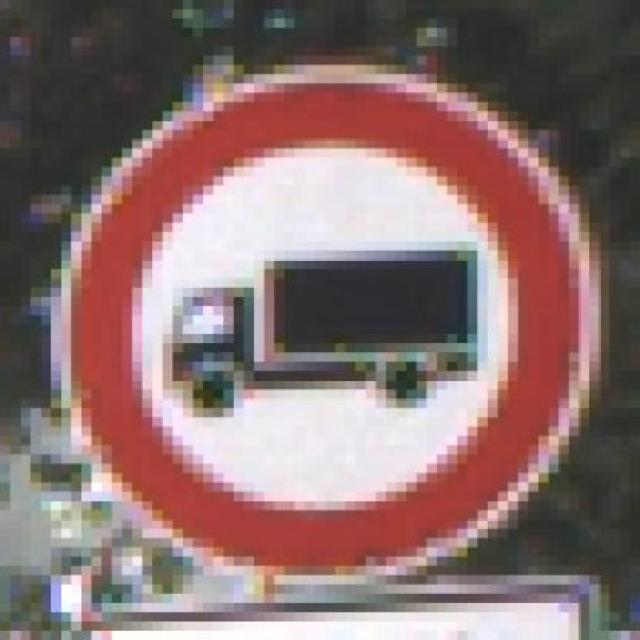Truck traffic is prohibited: (11, 52, 632, 580)
